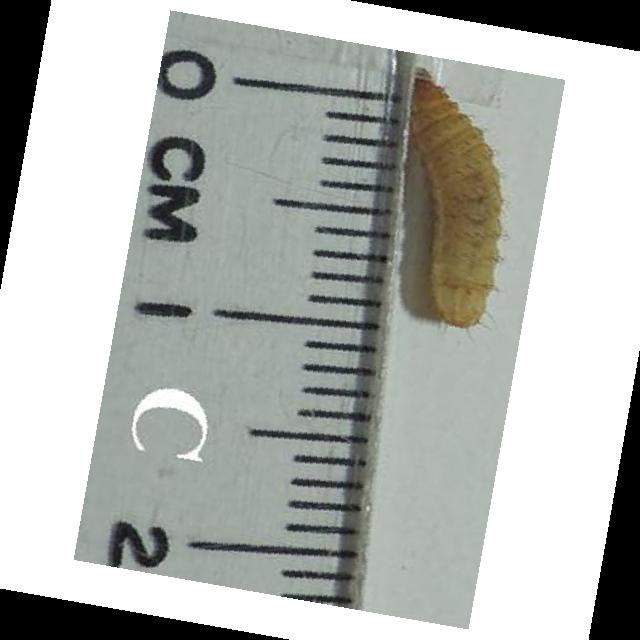Maggot: (409, 63, 506, 332)
